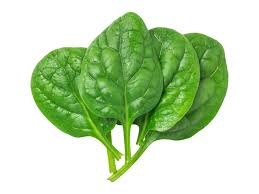spinach: (40, 25, 218, 160)
